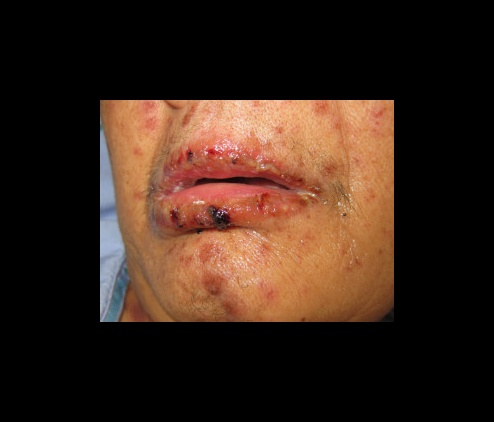SJS-TEN: (143, 121, 335, 245)
